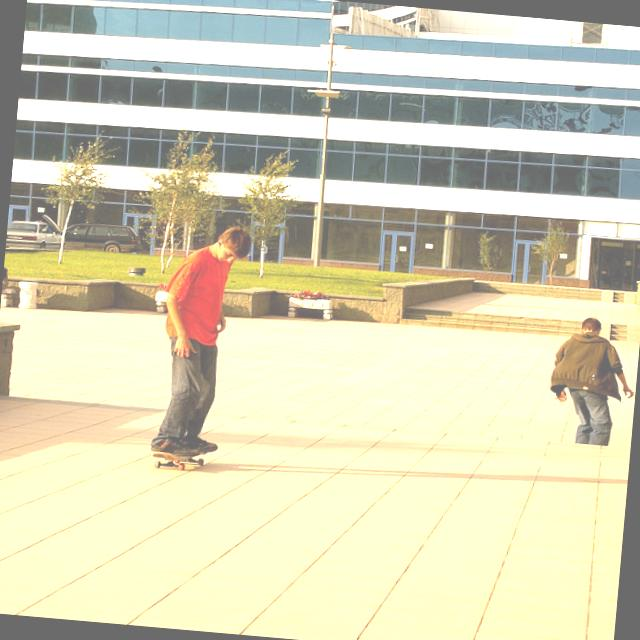Vehicle: (63, 220, 140, 254), (5, 218, 62, 250)
